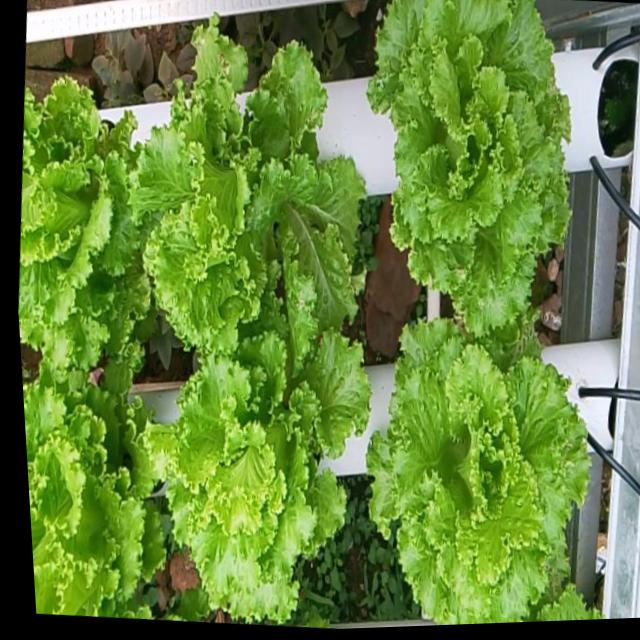Mature: (130, 3, 364, 346), (364, 314, 589, 625), (366, 0, 570, 336), (142, 326, 368, 621), (18, 70, 147, 365), (22, 345, 161, 616)
